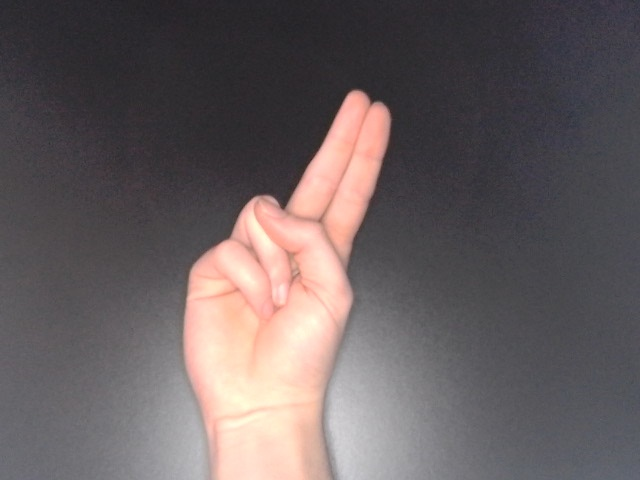u: (176, 84, 396, 444)
